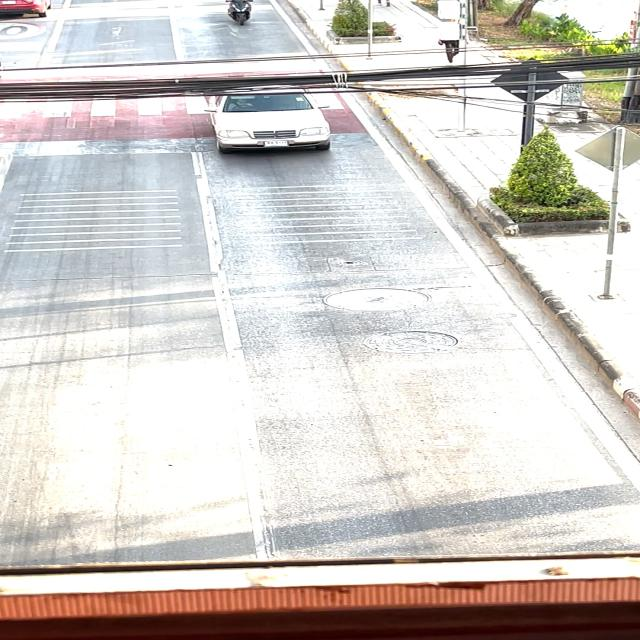car: (189, 77, 350, 162)
